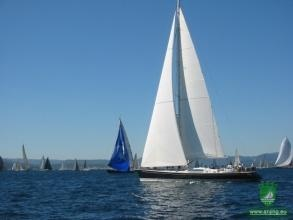fanchuan: (133, 1, 258, 182), (103, 117, 141, 175), (8, 147, 29, 170), (38, 154, 55, 173)
